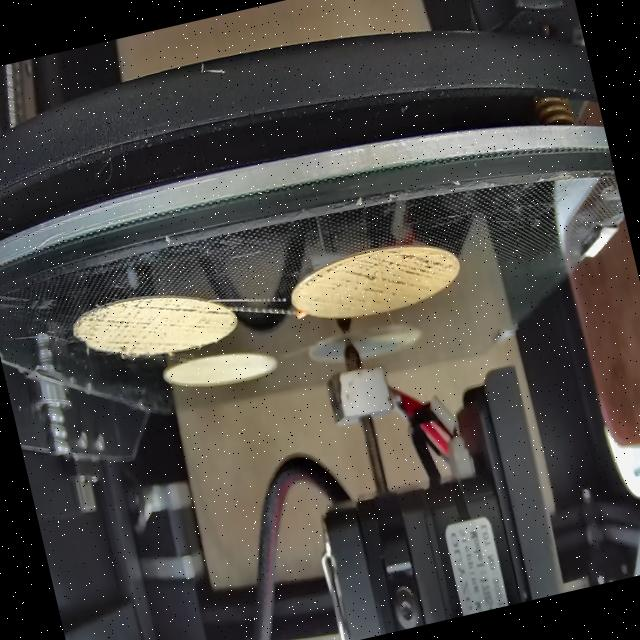under_extrusion: (302, 238, 459, 311), (75, 288, 178, 363), (174, 294, 233, 333)
